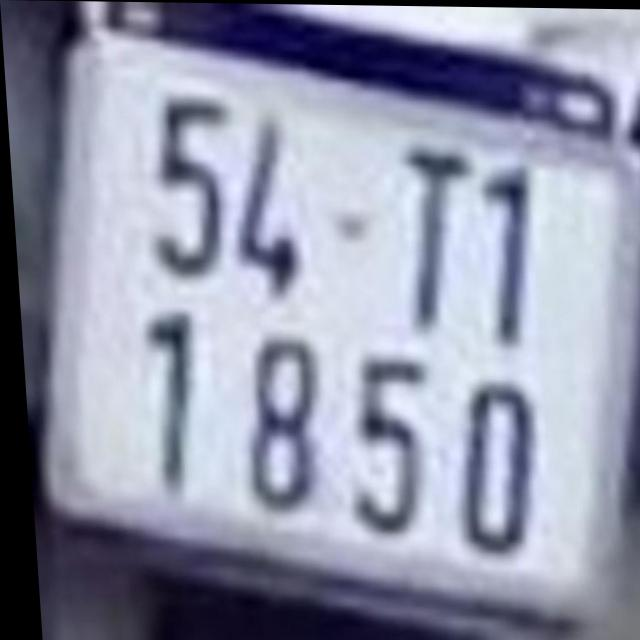0: (452, 381, 536, 560)
1: (133, 299, 199, 491), (475, 148, 537, 345)
4: (234, 117, 298, 300)
5: (344, 358, 426, 543), (148, 94, 221, 281)
8: (240, 327, 318, 518)
T: (399, 138, 472, 331)
